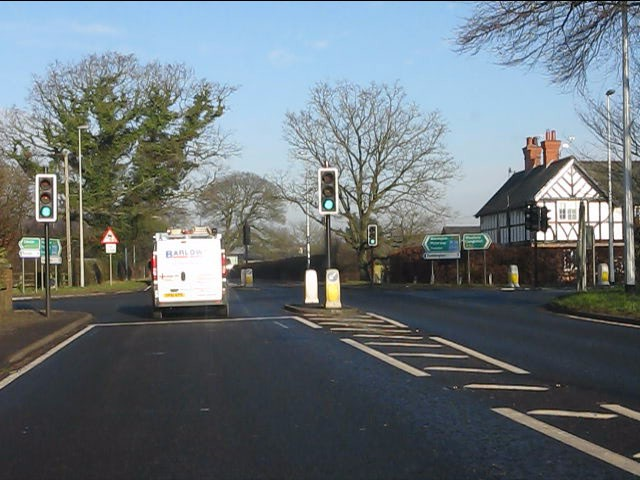go: (36, 174, 56, 221), (318, 168, 337, 213), (367, 224, 377, 246)
